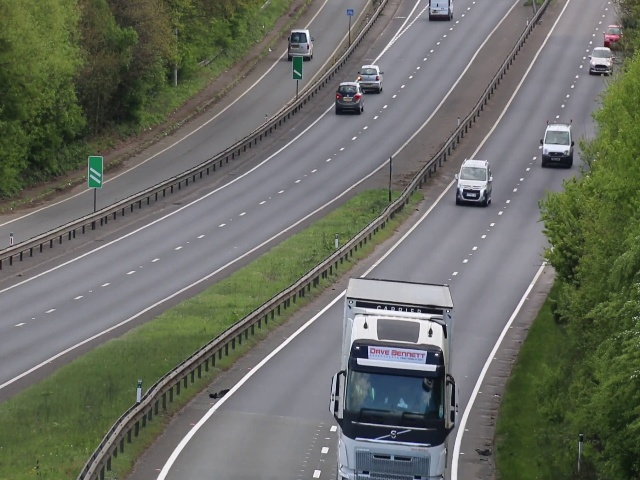car: (334, 334, 454, 480), (453, 156, 494, 208), (540, 119, 575, 167), (286, 27, 316, 61), (336, 81, 363, 115), (588, 44, 614, 74), (359, 62, 383, 94), (604, 20, 623, 51), (427, 1, 453, 20)
